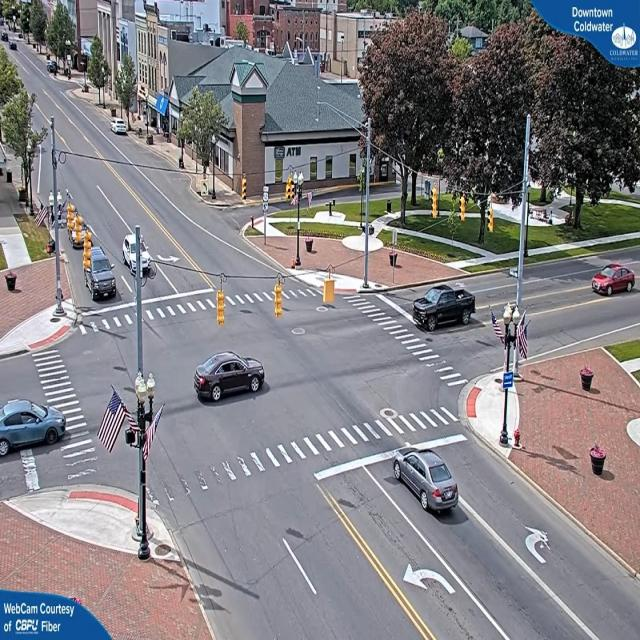car: (192, 350, 266, 406), (397, 448, 458, 512), (0, 401, 66, 456), (412, 282, 474, 330), (86, 248, 117, 298), (591, 266, 636, 298), (123, 227, 151, 275), (112, 121, 130, 138)
